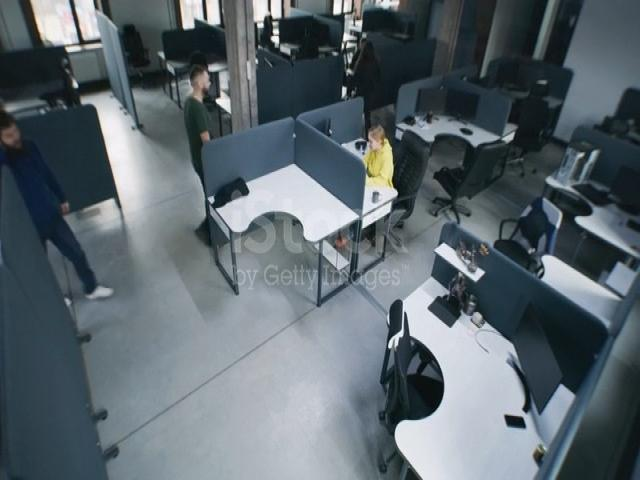EMPTY_CHAIR: (367, 296, 452, 463), (498, 182, 561, 282), (447, 115, 502, 217), (512, 71, 562, 176), (40, 50, 90, 122), (119, 13, 165, 87), (595, 102, 631, 150), (183, 52, 214, 72)
PERSON_IN_CHAIR: (347, 102, 425, 219), (334, 22, 369, 96)
